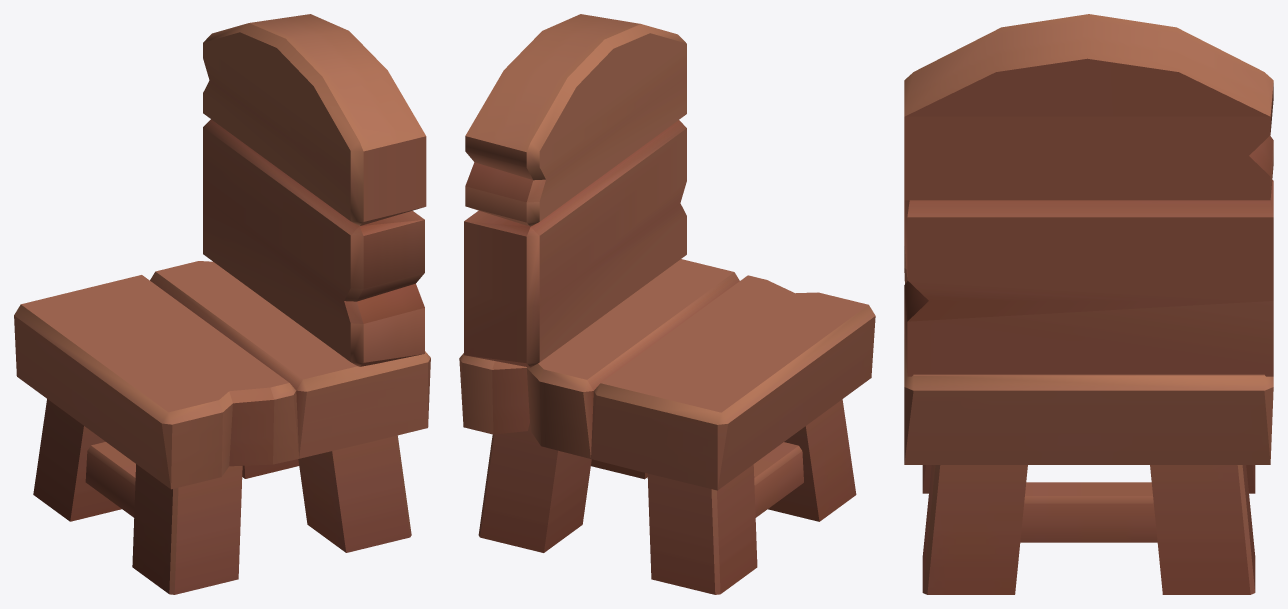
Rendered from chair.glb.
3 renders of one model, left to right at view 1: azimuth 30°, elevation 25°; view 2: azimuth 150°, elevation 25°; view 3: azimuth 270°, elevation 25°, orthographic. The views are drawn at different scales.
Parts seen in each view (by area): view 1: chair; view 2: chair; view 3: chair.
Boxes of the visible parts, x1=… form: chair: x1=14, y1=14, x2=430, y2=594; chair: x1=459, y1=14, x2=875, y2=594; chair: x1=904, y1=14, x2=1273, y2=594.
Bounding box in the file's own units: 0.75 × 1.23 × 0.75.
1 material, 1 textured.
